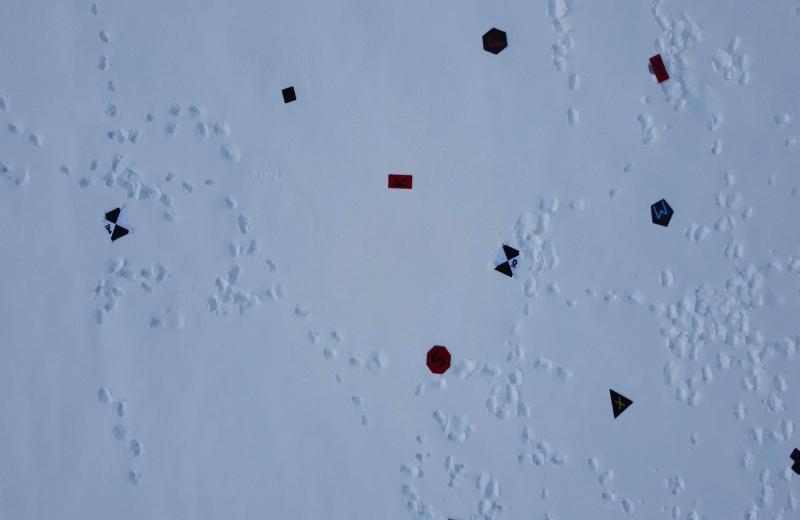Cross: (789, 448, 800, 477)
Hexagon: (480, 25, 512, 54)
Octagon: (424, 344, 453, 377)
Pentagon: (647, 196, 675, 229)
Rectangle: (384, 165, 418, 196), (646, 50, 670, 82)
Square: (281, 87, 300, 107)
Triangle: (605, 384, 635, 422)
